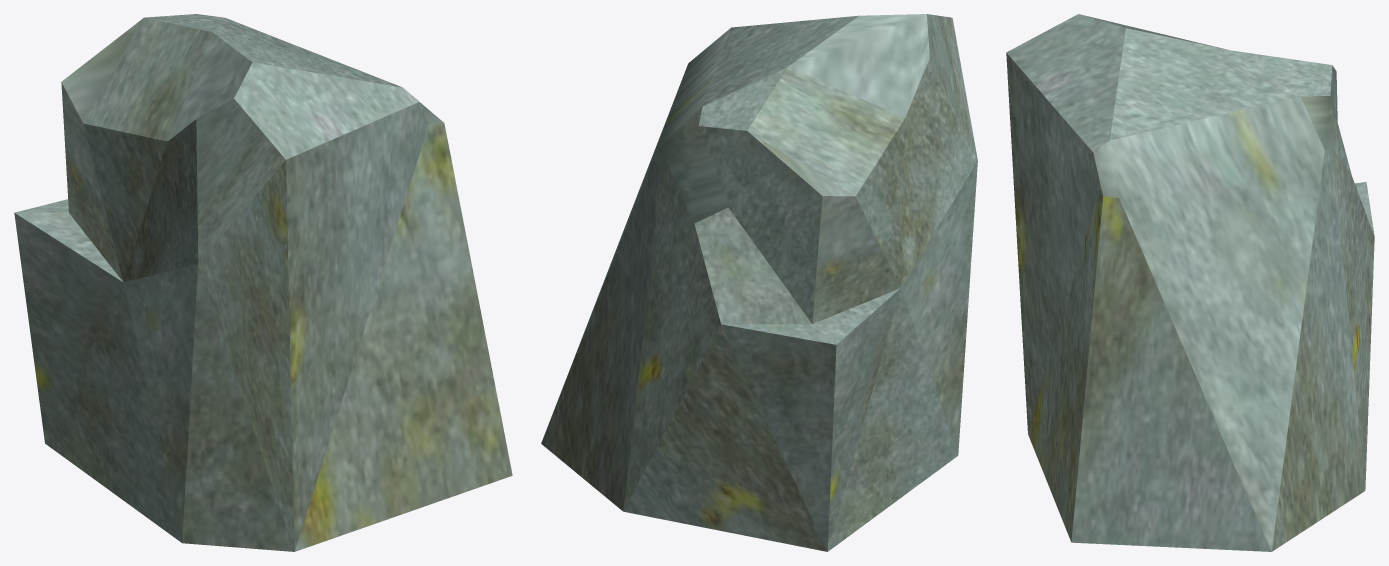
File: Big_Rock_T.FBX
3 views of the same model, side by side, from view 1: azimuth 30°, elevation 25°; view 2: azimuth 150°, elevation 25°; view 3: azimuth 270°, elevation 25° (orthographic). The views are drawn at different scales.
Visible parts, largest first — view 1: rock_e; view 2: rock_e; view 3: rock_e.
Boxes of the visible parts, bbox=[...] form: rock_e: bbox=[14, 14, 512, 551]; rock_e: bbox=[541, 14, 977, 551]; rock_e: bbox=[1006, 14, 1374, 551].
Bounding box in the file's own units: 1.4 × 1.67 × 1.36.
1 material, 1 textured.
